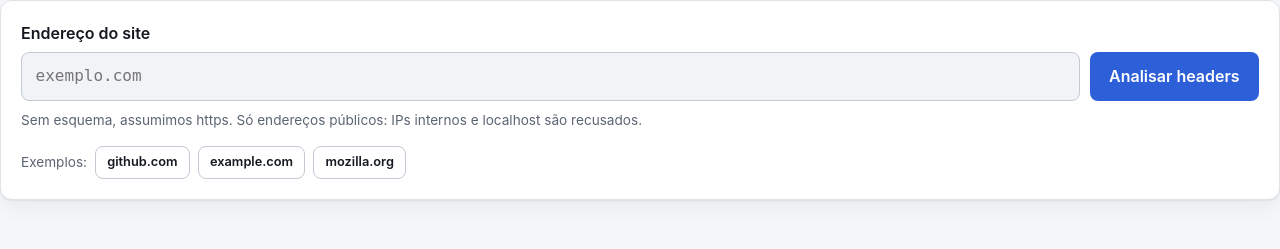
Test: ScanForm › blocks an empty submission and says why
Click the button "Analisar headers" at (1174, 77), box [1090,52,1259,101]
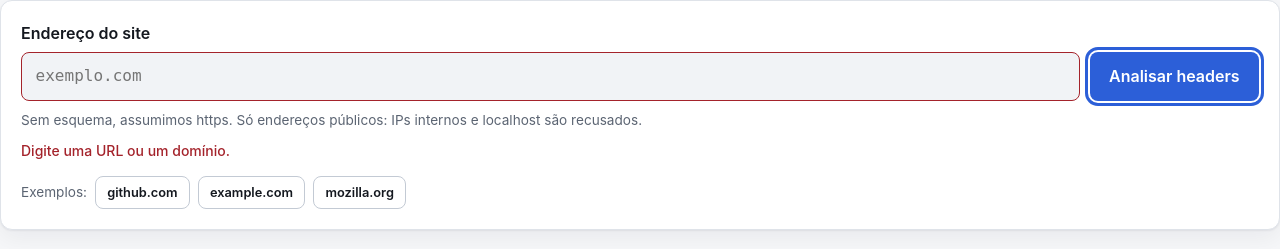
Now the text "Digite uma URL ou um domínio." is shown, box [21,142,230,159]
